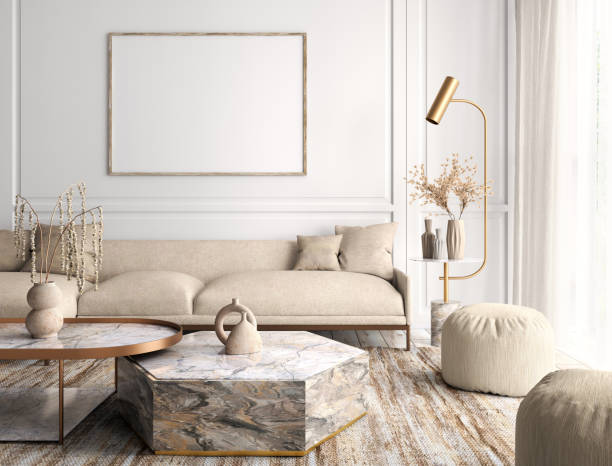floor lamp: (425, 74, 489, 349)
flower vase: (13, 179, 102, 340), (405, 148, 493, 261)
sofa: (1, 220, 414, 353)
table: (111, 326, 369, 455), (0, 312, 187, 447)
wall art: (102, 26, 311, 179)
